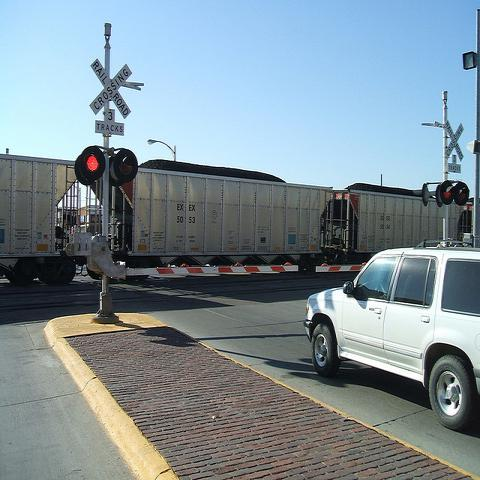car: (305, 249, 479, 428)
